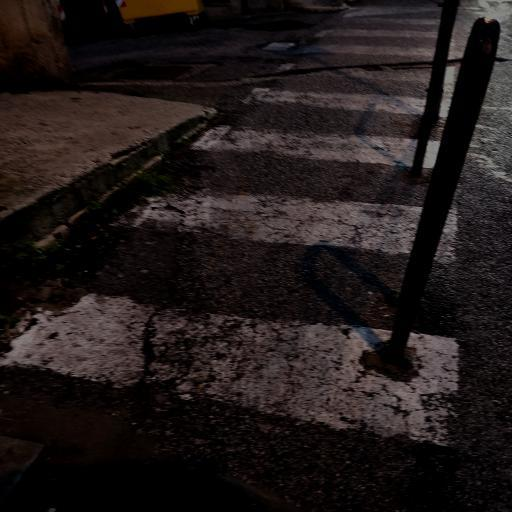crosswalk: (1, 189, 472, 468), (175, 77, 511, 175)
